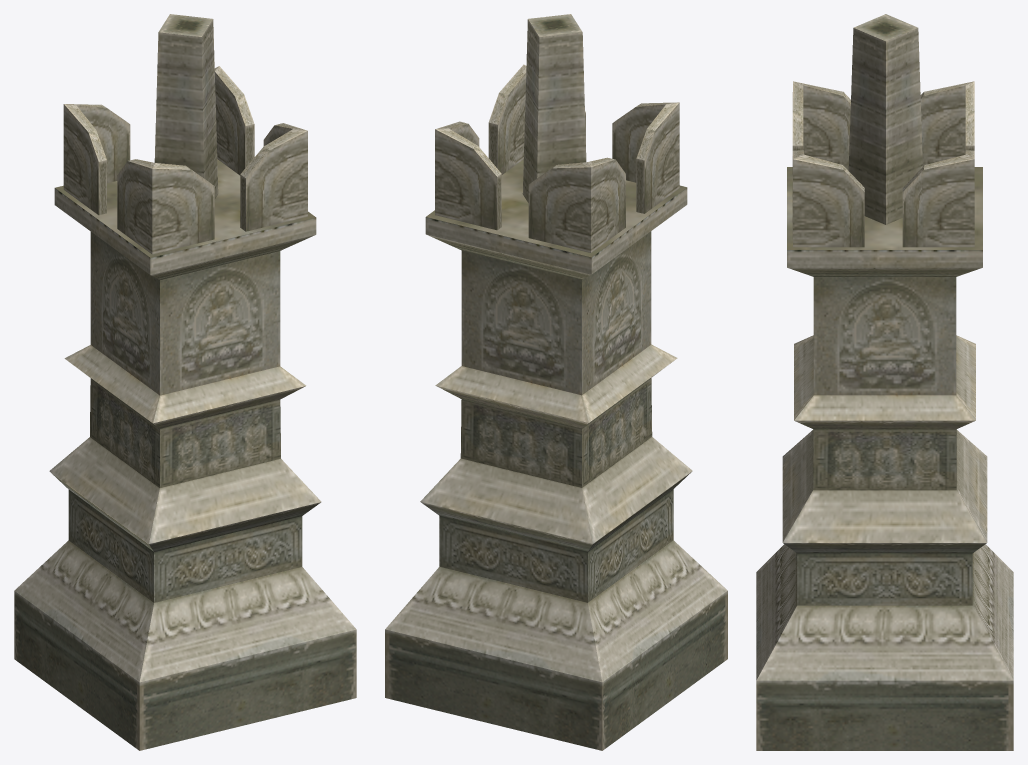
File: Youshuizhou_zhiwu_080_4.FBX
The picture shows the model from 3 angles, left to right: view 1: azimuth 30°, elevation 25°; view 2: azimuth 150°, elevation 25°; view 3: azimuth 270°, elevation 25°; orthographic projection. The views are drawn at different scales.
Parts seen in each view (by area): view 1: Object01yuanzhu; view 2: Object01yuanzhu; view 3: Object01yuanzhu.
Boxes of the visible parts, left/top/right/bottom form: Object01yuanzhu: left=14, top=14, right=356, bottom=750; Object01yuanzhu: left=385, top=14, right=727, bottom=750; Object01yuanzhu: left=756, top=14, right=1013, bottom=750.
Bounding box in the file's own units: 77.83 × 223 × 77.83.
1 material, 1 textured.
